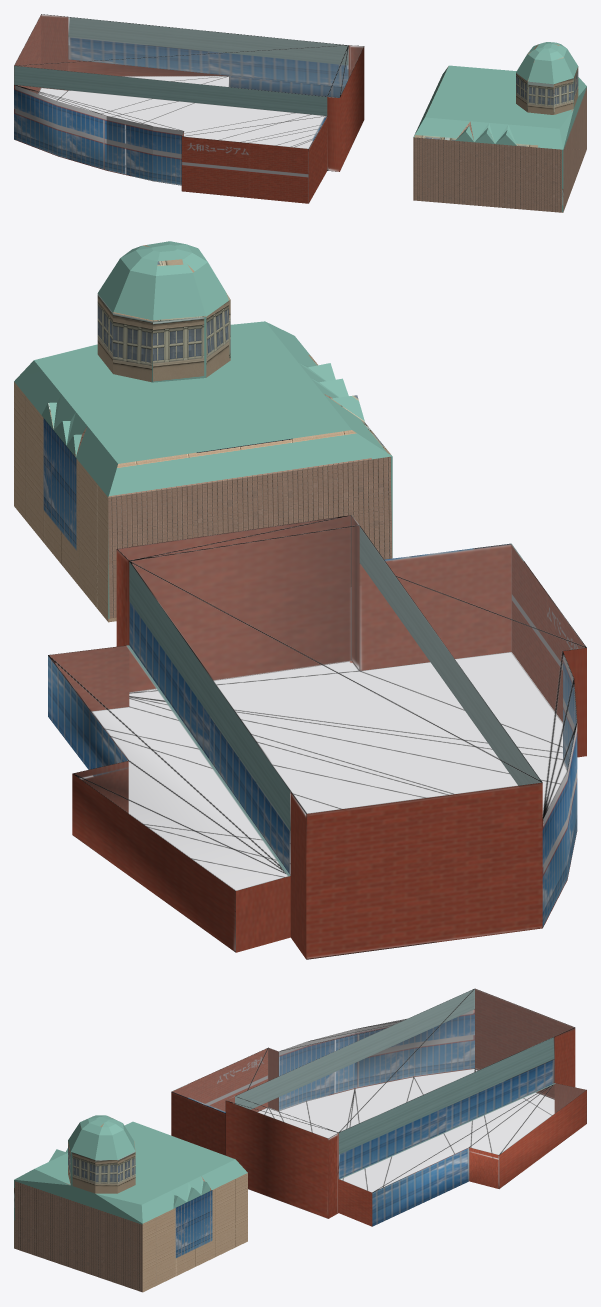
Rendered from yamato_museum.glb.
3 views of the same model, one above another, from view 1: azimuth 30°, elevation 25°; view 2: azimuth 150°, elevation 25°; view 3: azimuth 270°, elevation 25° (orthographic). The views are drawn at different scales.
Parts seen in each view (by area): view 1: bldg_917214b4-2fde-4add-8d27-8fea73f38346, bldg_35e957af-28d2-47cc-aa2c-881dcafbaf1a; view 2: bldg_917214b4-2fde-4add-8d27-8fea73f38346, bldg_35e957af-28d2-47cc-aa2c-881dcafbaf1a; view 3: bldg_917214b4-2fde-4add-8d27-8fea73f38346, bldg_35e957af-28d2-47cc-aa2c-881dcafbaf1a.
Part boxes in pixels (x1,y1,x2,y2): bldg_917214b4-2fde-4add-8d27-8fea73f38346: [14, 14, 364, 203]; bldg_35e957af-28d2-47cc-aa2c-881dcafbaf1a: [413, 42, 586, 212]; bldg_917214b4-2fde-4add-8d27-8fea73f38346: [48, 515, 586, 959]; bldg_35e957af-28d2-47cc-aa2c-881dcafbaf1a: [14, 241, 392, 622]; bldg_917214b4-2fde-4add-8d27-8fea73f38346: [171, 988, 586, 1226]; bldg_35e957af-28d2-47cc-aa2c-881dcafbaf1a: [14, 1115, 247, 1292].
Bounding box in the file's own units: 121 × 36.01 × 131.
Materials: 2 (2 with a texture image).
